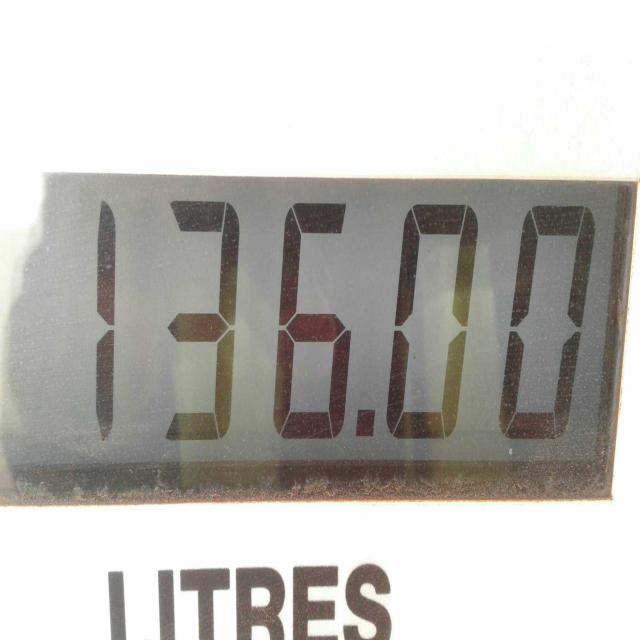.: (353, 372, 387, 457)
0: (375, 205, 493, 457), (503, 184, 598, 464)
1: (71, 185, 148, 452)
3: (160, 193, 240, 450)
6: (259, 183, 359, 443)
